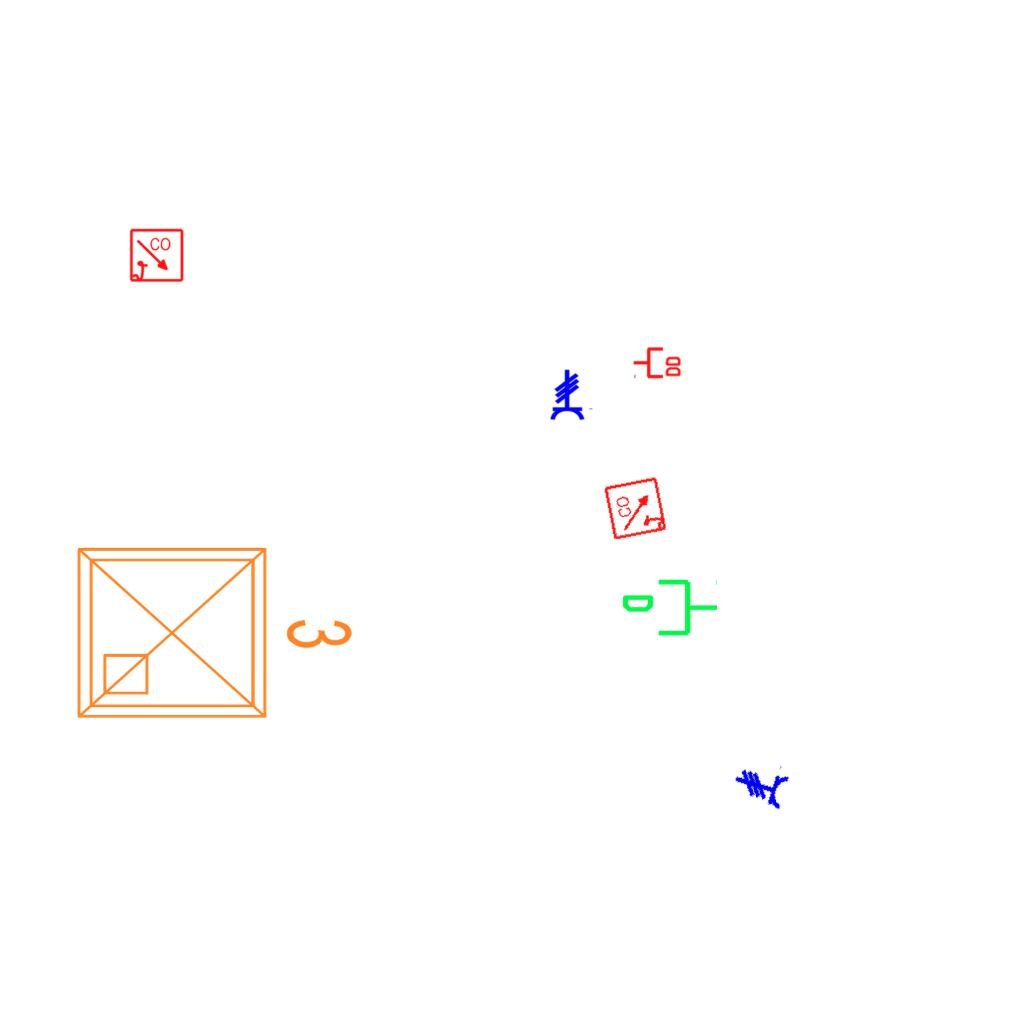CEE_Drehstrom_Steckdose_16_32_A: (730, 752, 793, 812), (549, 369, 594, 421)
Datenanschluss_einfach: (620, 575, 720, 644)
Datenanschluss_zweifach: (632, 345, 683, 379)
Einbaudownlights_LED_Konferenzraeume: (63, 525, 363, 733)
ROA_Rauchmelder_optisch_mit_Signalgeber_(Sockelsirene): (603, 475, 669, 541), (129, 228, 185, 284)
